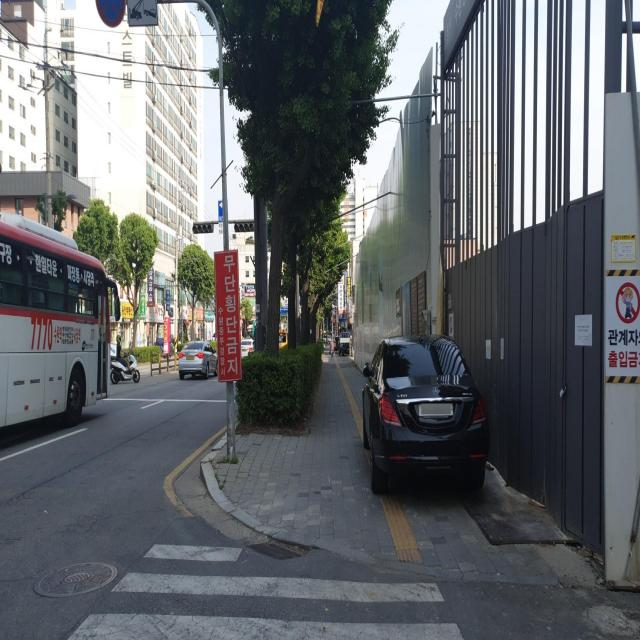횡단보도: (66, 541, 465, 640)
